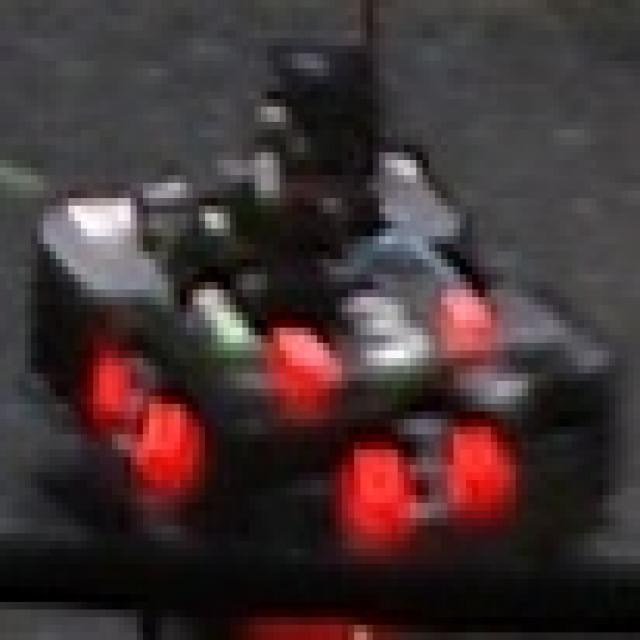R3: (261, 274, 503, 389), (336, 404, 510, 533), (87, 342, 180, 488)
